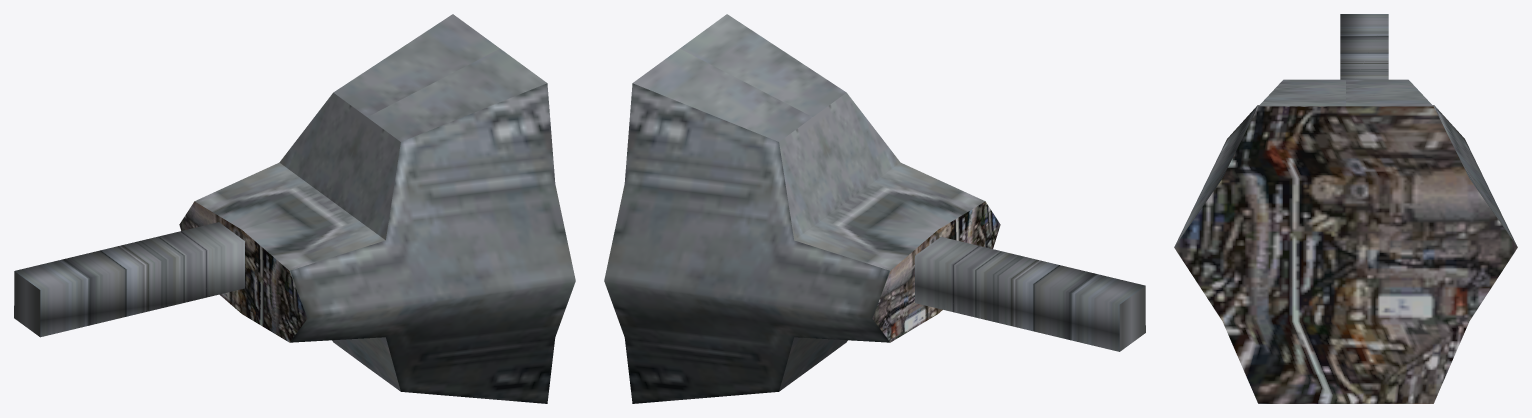
The model's file is tie_fighter_debris_d_l0.fbx.
3 renders of one model, left to right at view 1: azimuth 30°, elevation 25°; view 2: azimuth 150°, elevation 25°; view 3: azimuth 270°, elevation 25°, orthographic. The views are drawn at different scales.
Visible parts, largest first — view 1: mesh_node; view 2: mesh_node; view 3: mesh_node.
Boxes of the visible parts, <box> form: mesh_node: <box>14,14,575,403</box>; mesh_node: <box>604,14,1145,403</box>; mesh_node: <box>1174,14,1517,403</box>.
Bounding box in the file's own units: 1.47 × 0.9726 × 1.02.
1 material, 1 textured.
